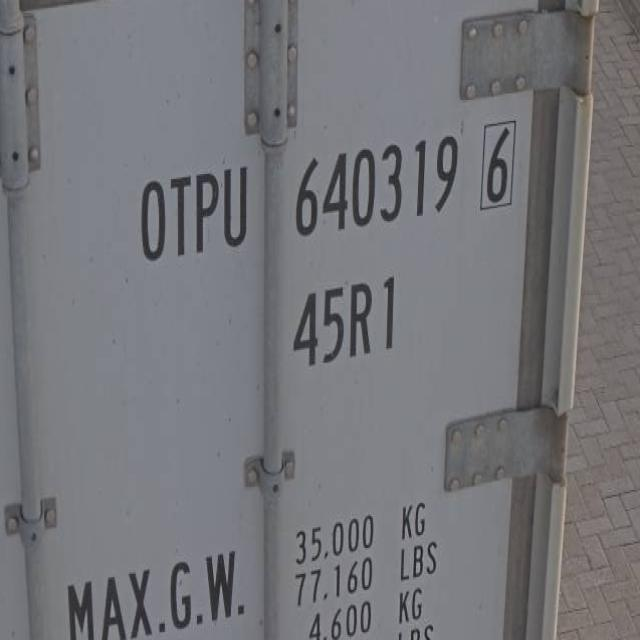dv: (479, 114, 519, 220)
owner: (132, 156, 258, 268)
serial: (292, 122, 462, 247)
size: (286, 267, 410, 378)
